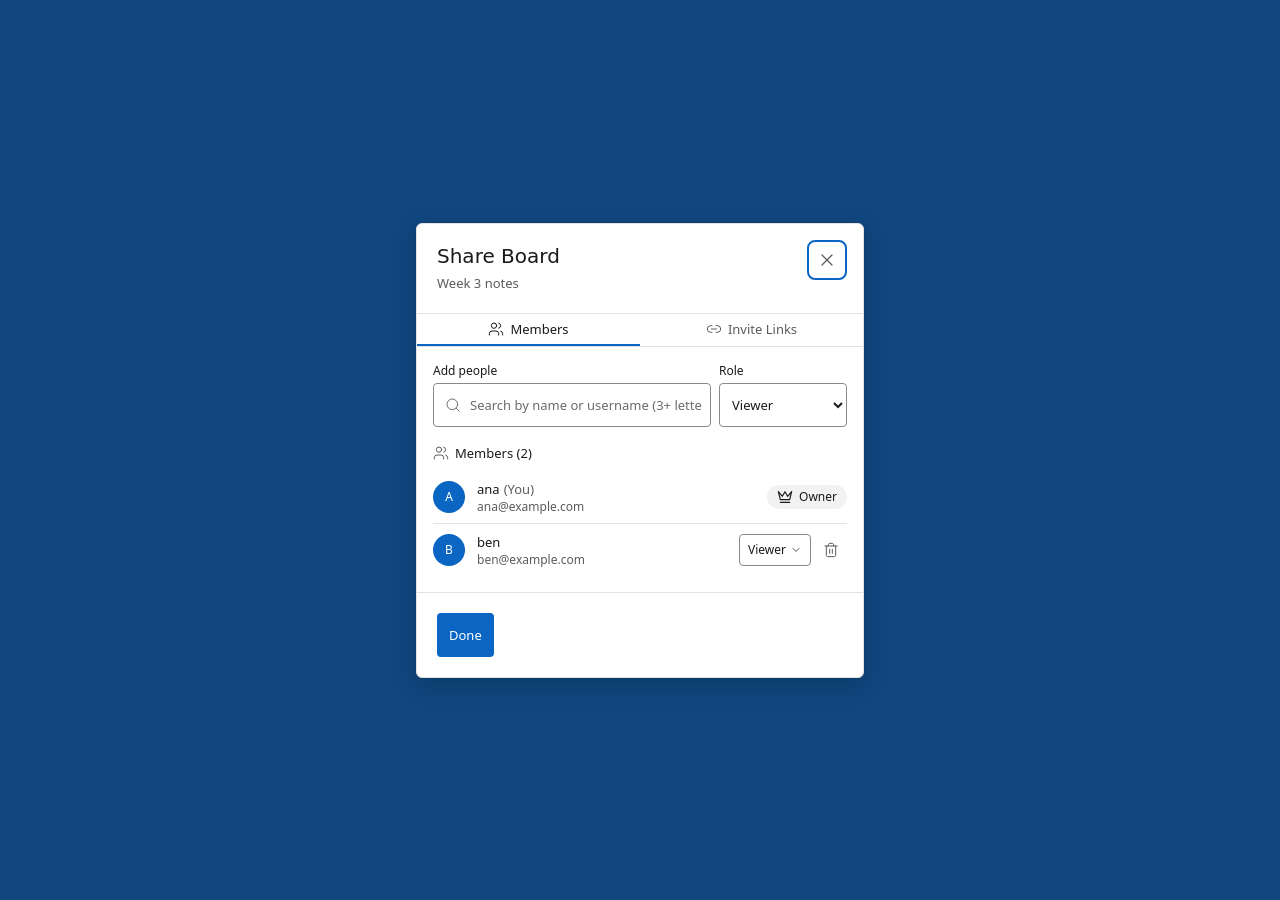
Scenario: ShareModal › owner searches, adds a viewer, and the success message is a status
The width and height of the screenshot is (1280, 900).
Type "cy" into the field labelled "Add people" at (572, 404), box [433,382,711,426]
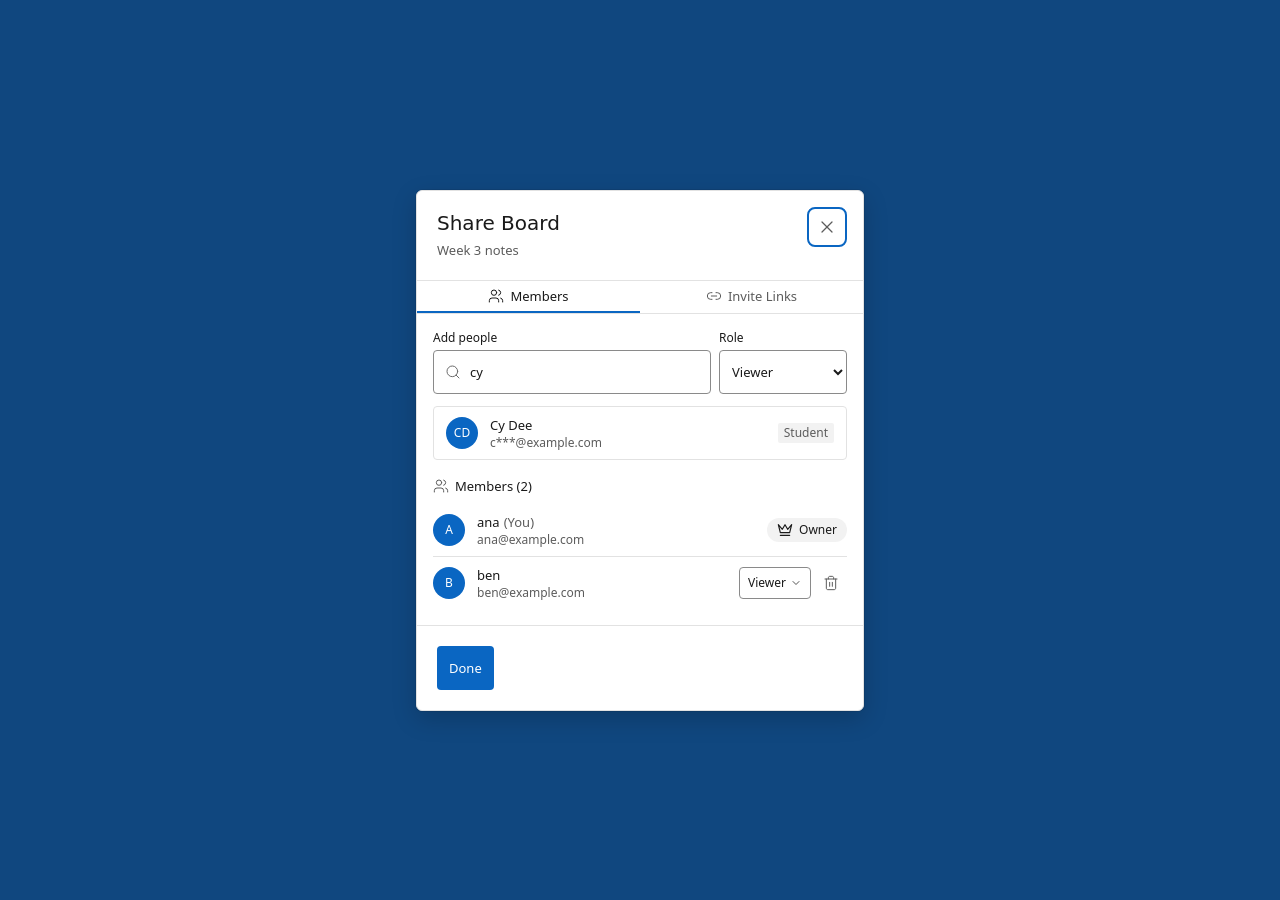
Click the button "CD Cy Dee c***@example.com student" at (462, 432), box [434,406,846,458]
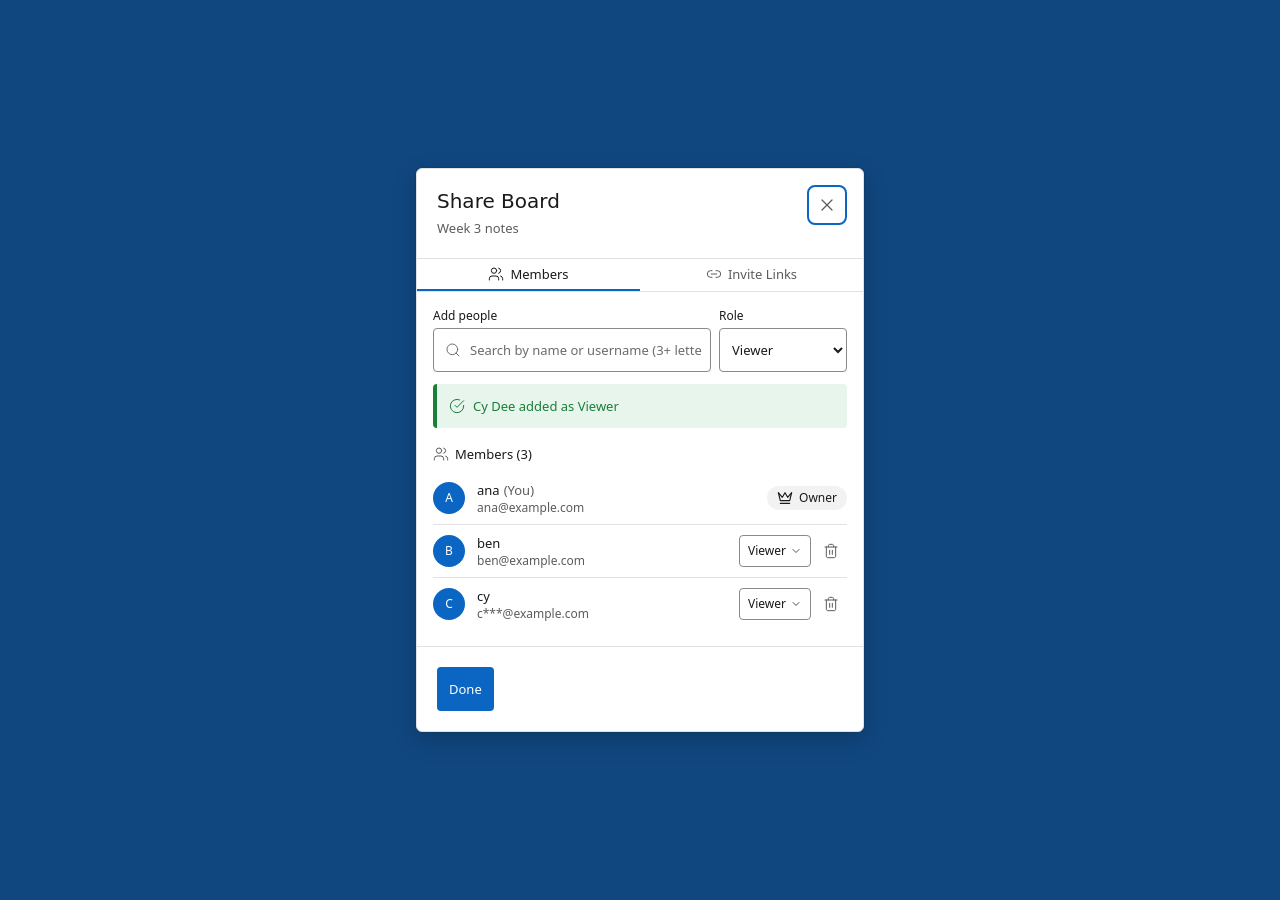
Expected: the message reads "Cy Dee added as Viewer", [473,397,619,415]
